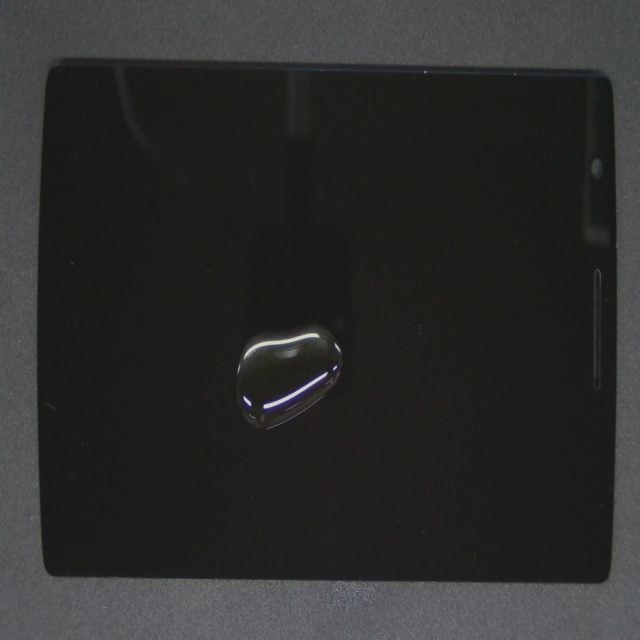oil: (180, 143, 412, 501)
